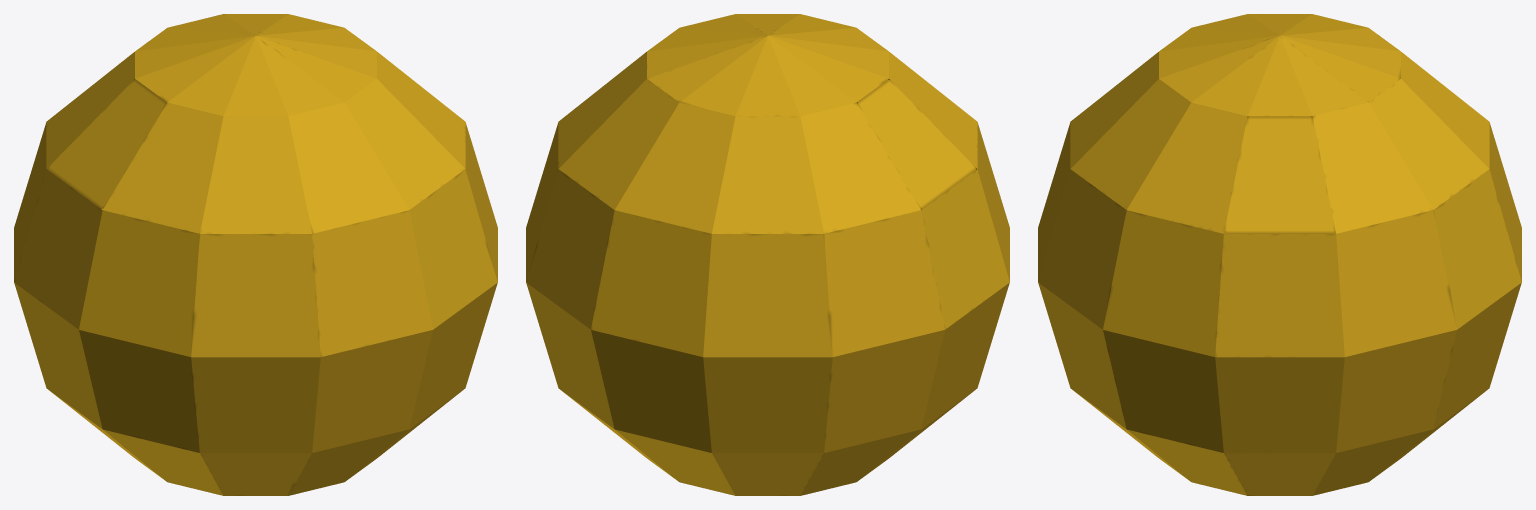
File: nyc_subway_entrance_1_globe_light_2y_light_layer.obj
3 renders of one model, left to right at view 1: azimuth 30°, elevation 25°; view 2: azimuth 150°, elevation 25°; view 3: azimuth 270°, elevation 25°, orthographic.
Parts seen in each view (by area): view 1: sphere; view 2: sphere; view 3: sphere.
Part boxes in pixels (<box>): sphere: <box>14,14,497,495</box>; sphere: <box>526,14,1009,495</box>; sphere: <box>1038,14,1521,495</box>.
Size of the model in its own units: 0.5006 by 0.5006 by 0.5006.
Materials: 1 (1 with a texture image).
